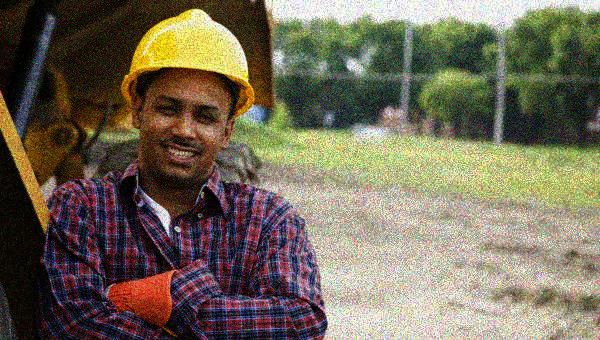helmet: (120, 8, 256, 191)
